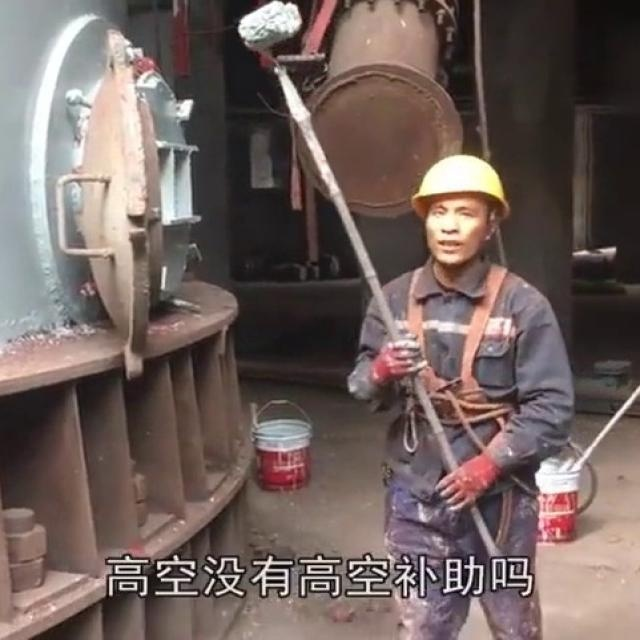Arnes_seguridad: (399, 254, 538, 416)
